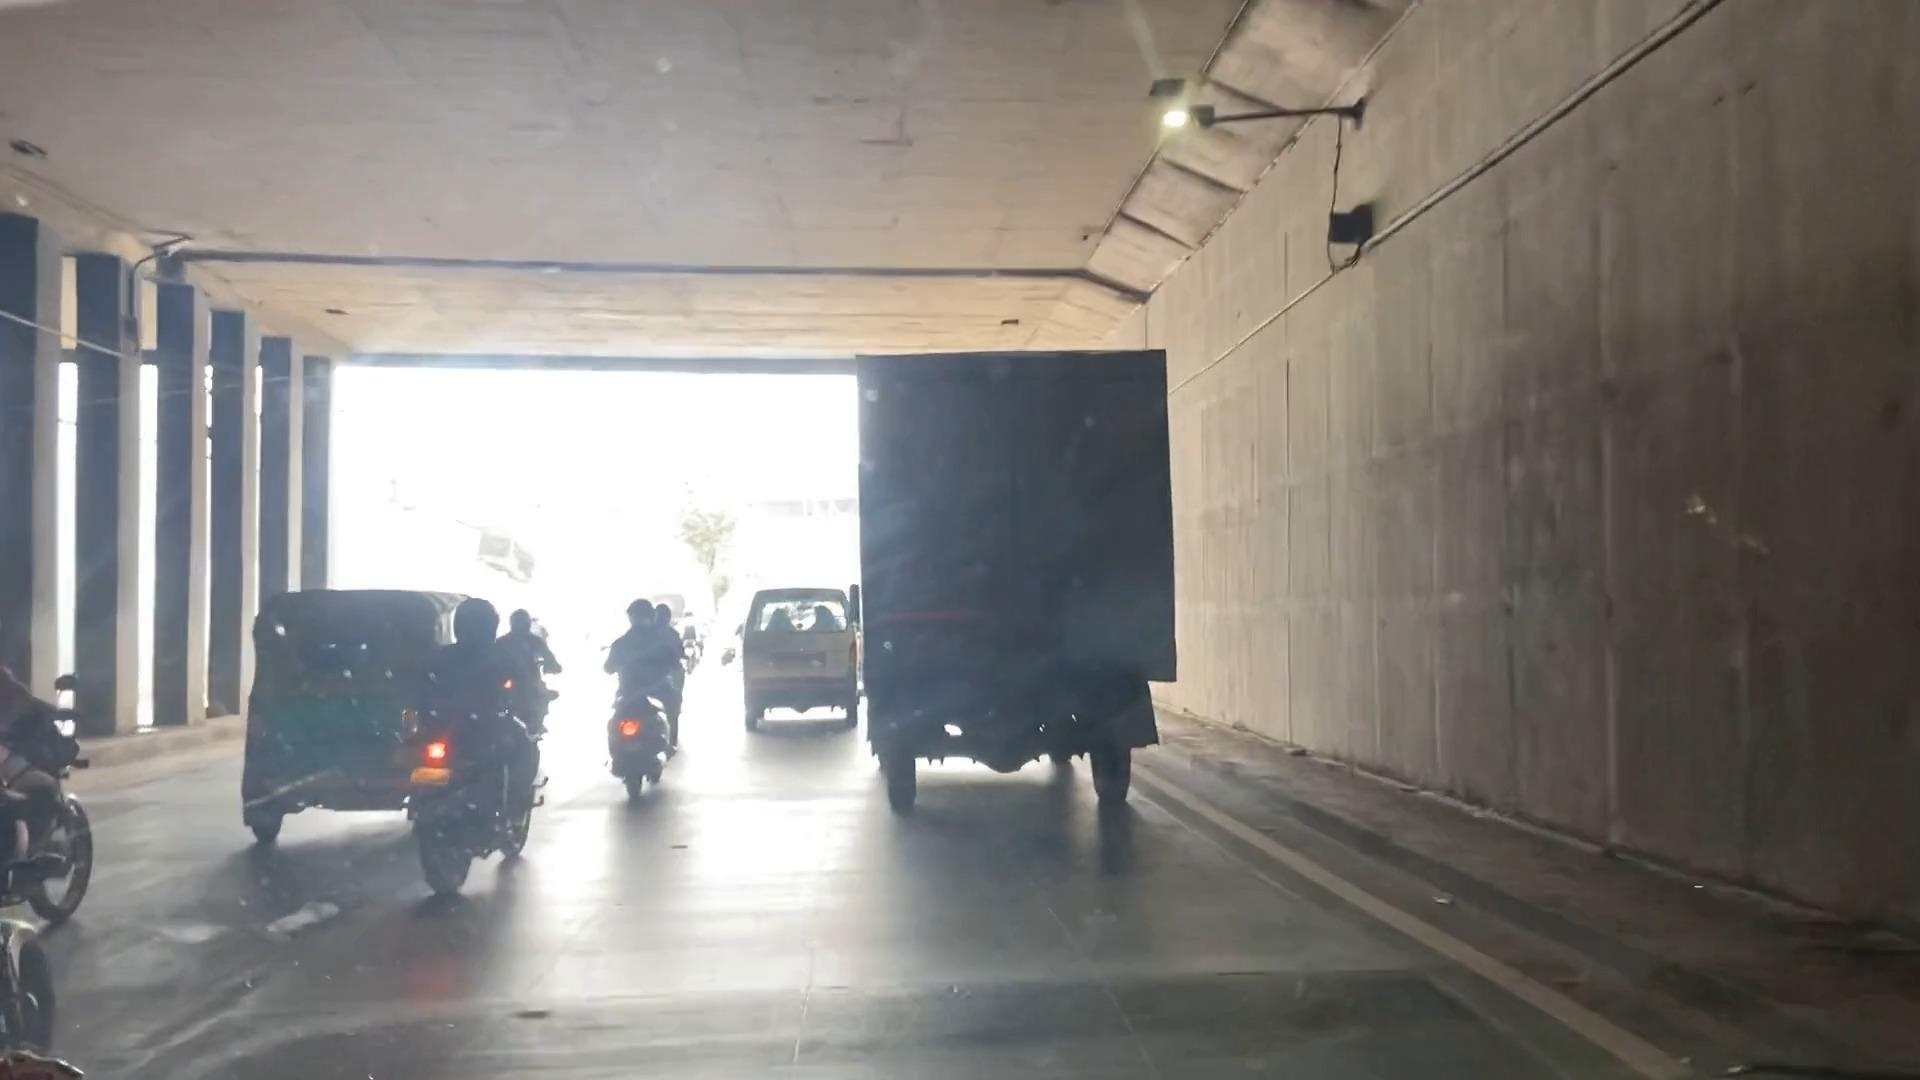HMV: (860, 360, 1171, 778)
LMV: (420, 617, 538, 879), (593, 597, 699, 797), (743, 587, 845, 721)
